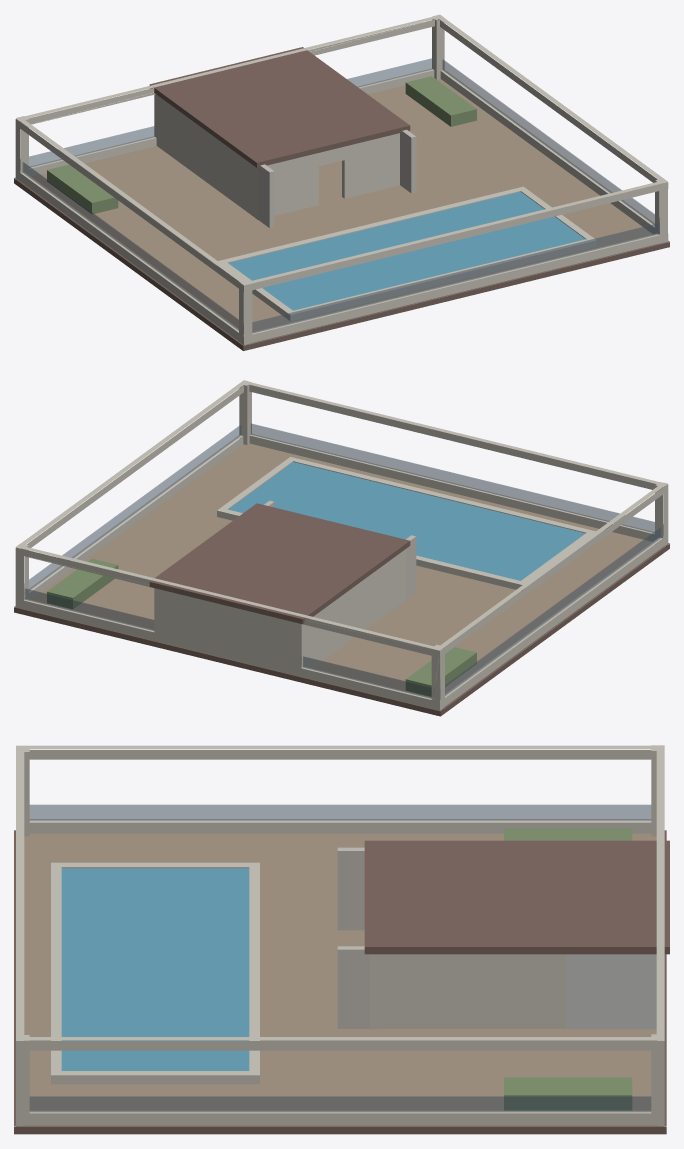
The model's file is brick-roof-b.glass-v2.lod0.glb.
3 renders of one model, top to bottom at view 1: azimuth 30°, elevation 25°; view 2: azimuth 150°, elevation 25°; view 3: azimuth 270°, elevation 25°, orthographic. The views are drawn at different scales.
Parts seen in each view (by area): view 1: brick-roof-b; view 2: brick-roof-b; view 3: brick-roof-b.
Boxes of the visible parts, x1,y1,x2,y2 form: brick-roof-b: (14, 14, 669, 350); brick-roof-b: (14, 380, 669, 716); brick-roof-b: (14, 745, 669, 1134).
Bounding box in the file's own units: 26.16 × 3.86 × 24.48.
